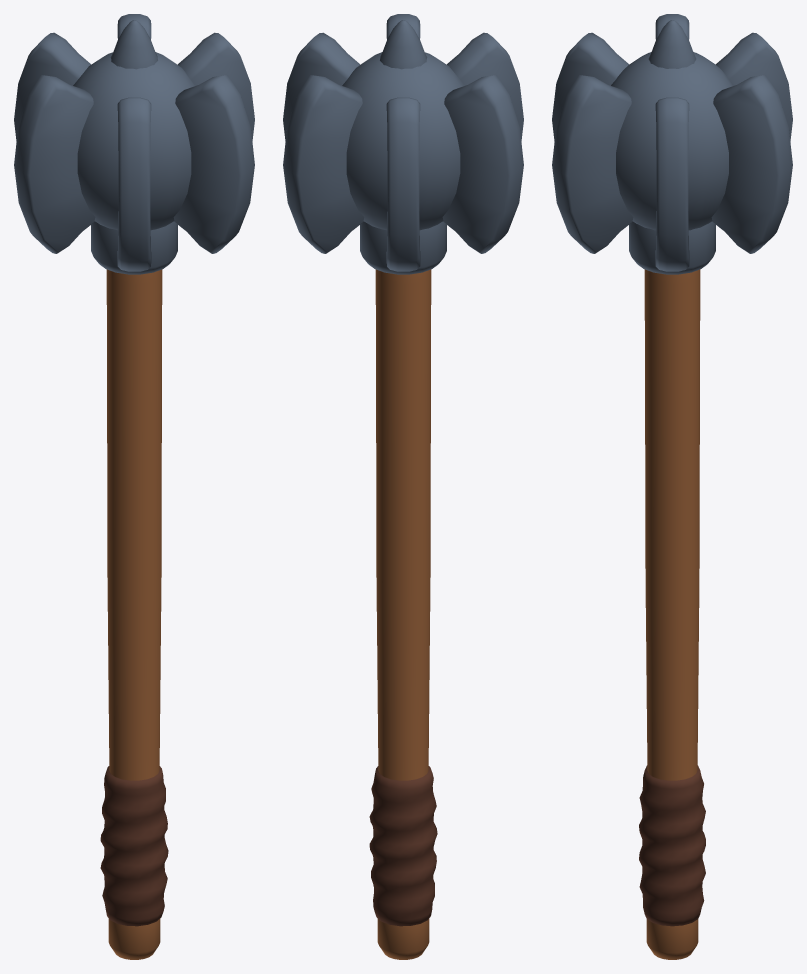
Rendered from arma-maza.glb.
3 views of the same model, side by side, from view 1: azimuth 30°, elevation 25°; view 2: azimuth 150°, elevation 25°; view 3: azimuth 270°, elevation 25° (orthographic).
Visible parts, largest first — view 1: arma-maza; view 2: arma-maza; view 3: arma-maza.
Boxes of the visible parts, left/top/right/bottom form: arma-maza: left=14, top=14, right=254, bottom=959; arma-maza: left=283, top=14, right=523, bottom=959; arma-maza: left=552, top=14, right=792, bottom=959.
Size of the model in its own units: 0.2201 by 0.851 by 0.1995.
